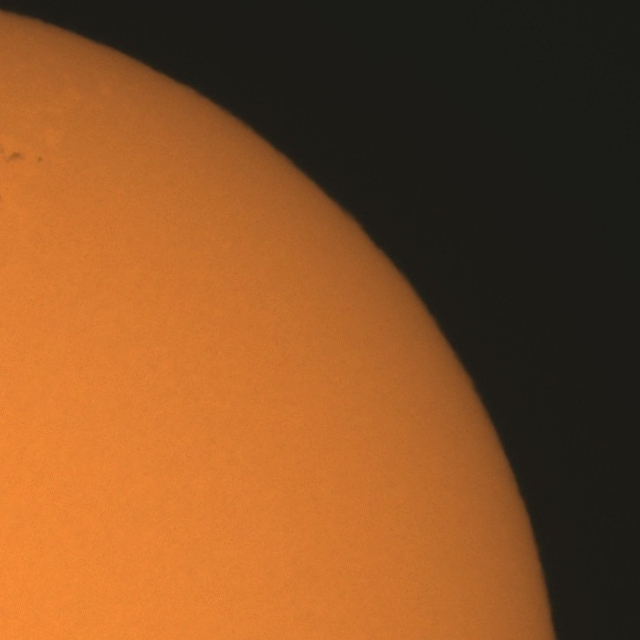sunspot: (1, 146, 22, 164), (36, 154, 44, 165)
